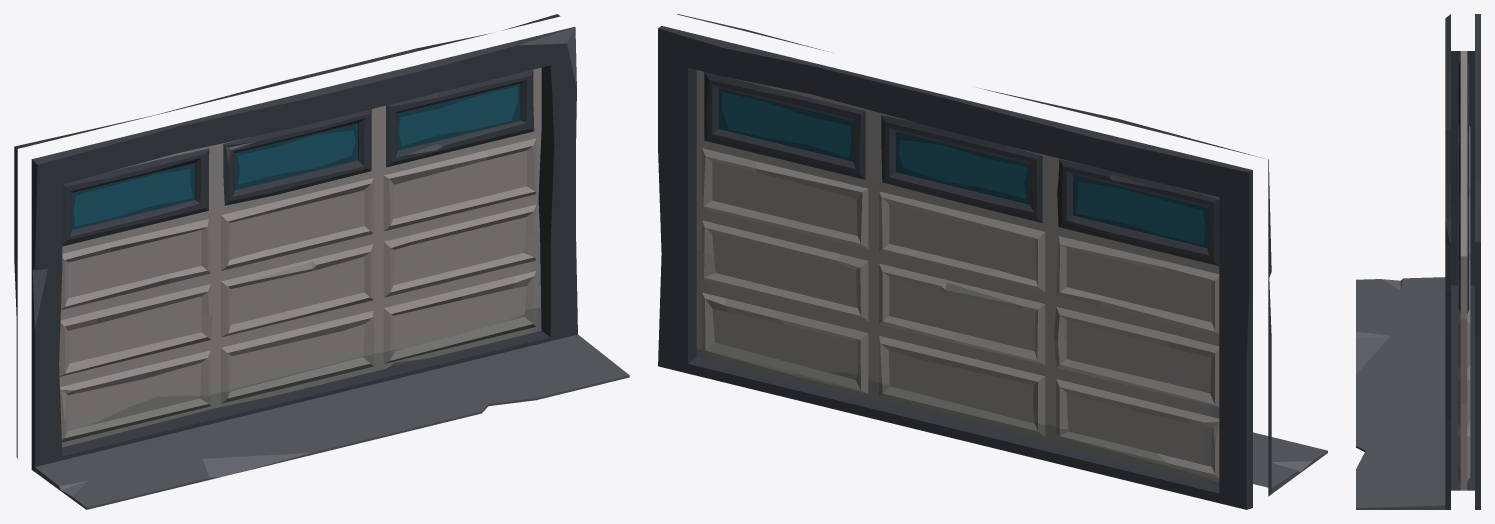
Rendered from SM_Garage_Gate.gltf.
3 views of the same model, side by side, from view 1: azimuth 30°, elevation 25°; view 2: azimuth 150°, elevation 25°; view 3: azimuth 270°, elevation 25° (orthographic). The views are drawn at different scales.
Parts seen in each view (by area): view 1: SM_Gate, SM_Garage_Gate; view 2: SM_Gate, SM_Garage_Gate; view 3: SM_Garage_Gate, SM_Gate.
Boxes of the visible parts, x1,y1,x2,y2 form: SM_Gate: [59, 67, 541, 447]; SM_Garage_Gate: [14, 14, 629, 509]; SM_Gate: [696, 70, 1219, 484]; SM_Garage_Gate: [658, 14, 1327, 509]; SM_Garage_Gate: [1356, 14, 1480, 509]; SM_Gate: [1458, 51, 1470, 490].
Size of the model in its own units: 4.45 by 2.43 by 1.03.
Materials: 2 (2 with a texture image).
